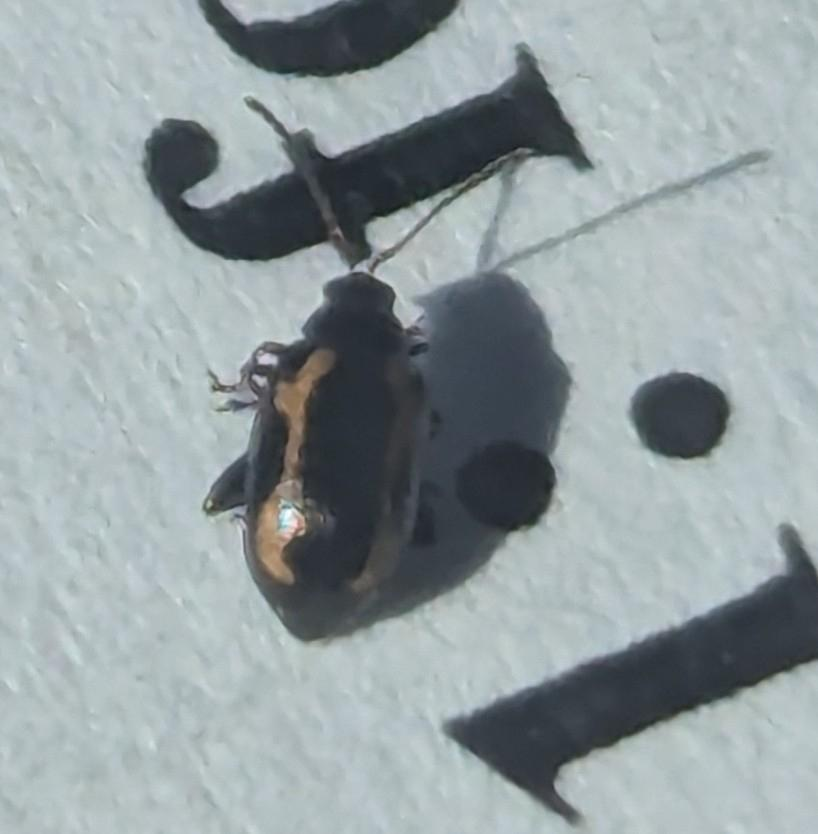flea_beetle: (90, 45, 608, 678)
